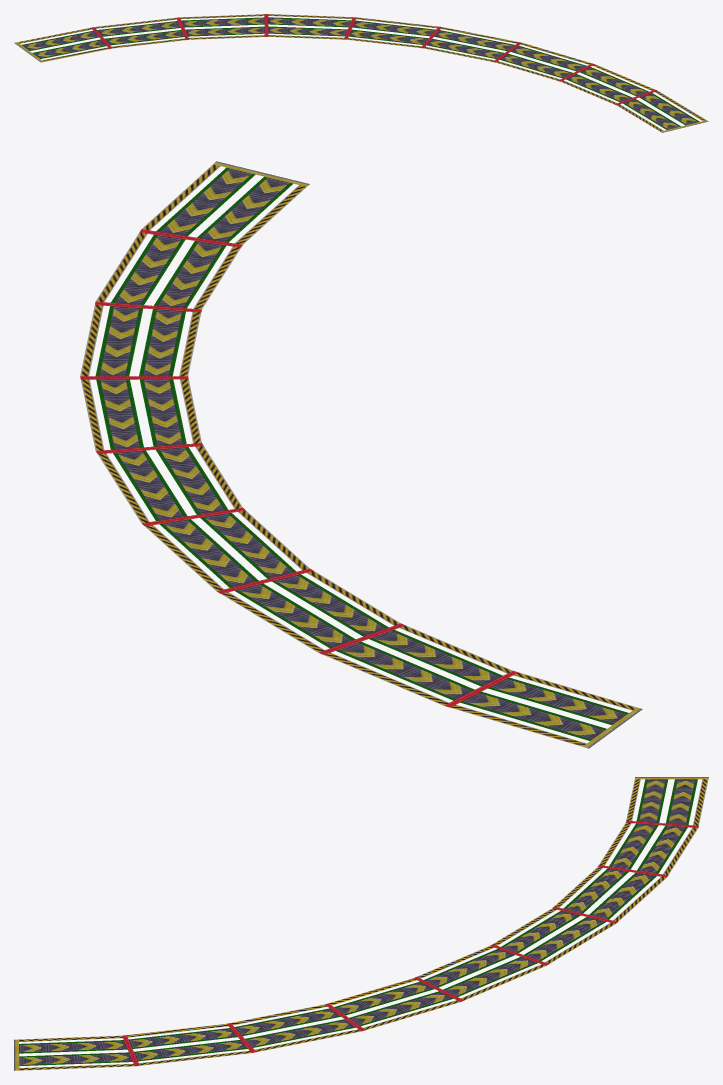
The model's file is S23_ONS_07.obj.
3 renders of one model, top to bottom at view 1: azimuth 30°, elevation 25°; view 2: azimuth 150°, elevation 25°; view 3: azimuth 270°, elevation 25°, orthographic. The views are drawn at different scales.
Visible parts, largest first — view 1: Object_2; view 2: Object_2; view 3: Object_2.
Part boxes in pixels (left/top/right/bottom): Object_2: left=14, top=14, right=708, bottom=132; Object_2: left=80, top=161, right=642, bottom=748; Object_2: left=14, top=777, right=708, bottom=1070.
Size of the model in its own units: 3200 by 0 by 3200.
